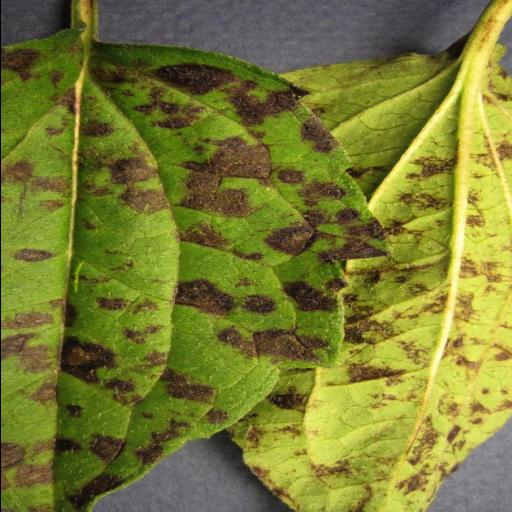Septoria: (1, 30, 395, 512), (220, 36, 512, 512)
